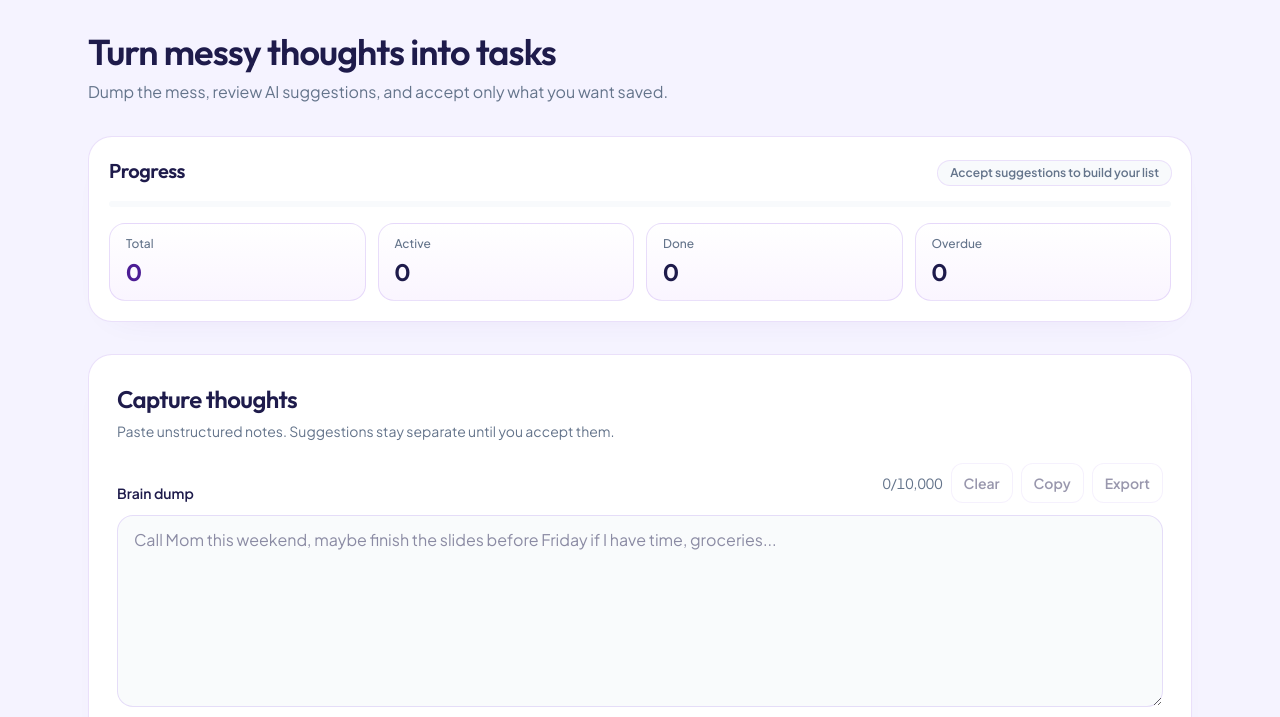
Test: BrainDumpWorkspace › shows loading and empty states and blocks duplicate submissions
Type "random musings" into the text box labelled "Brain dump" at {"x": 640, "y": 611}, box [117, 515, 1163, 707]
(page scrolled)
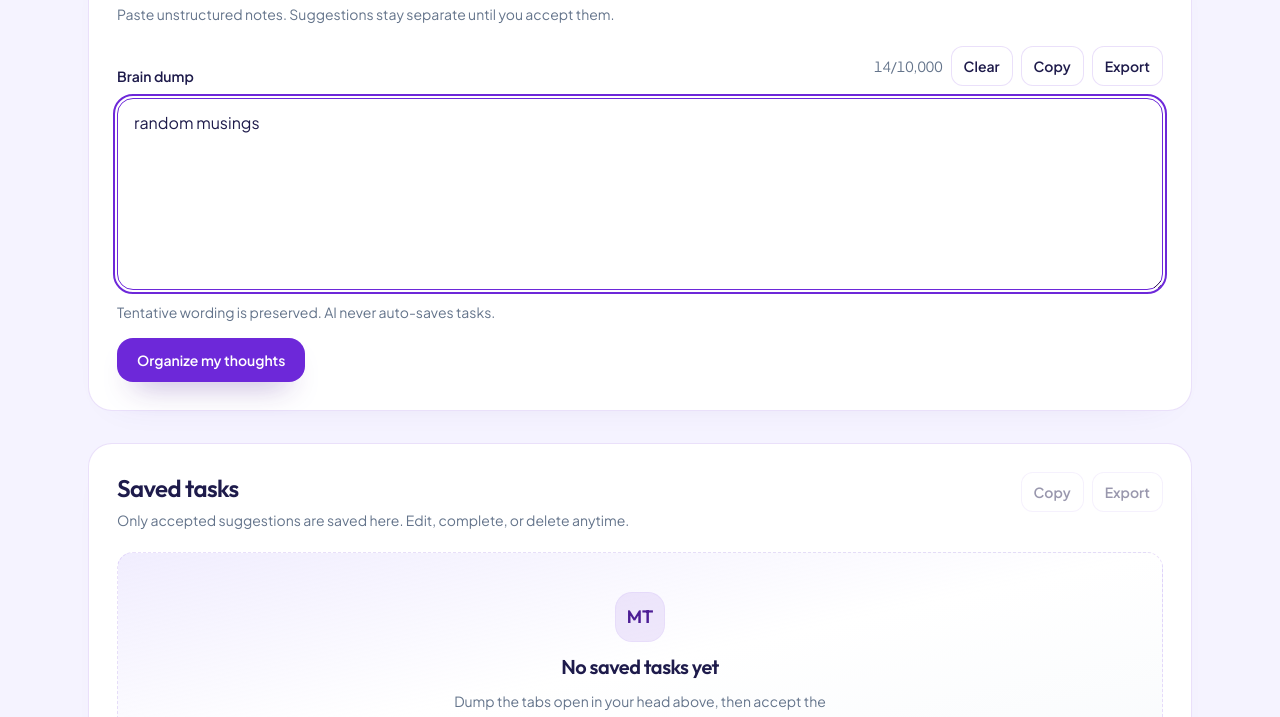
Click the button "Organize my thoughts" at {"x": 211, "y": 360}, box [117, 338, 306, 382]
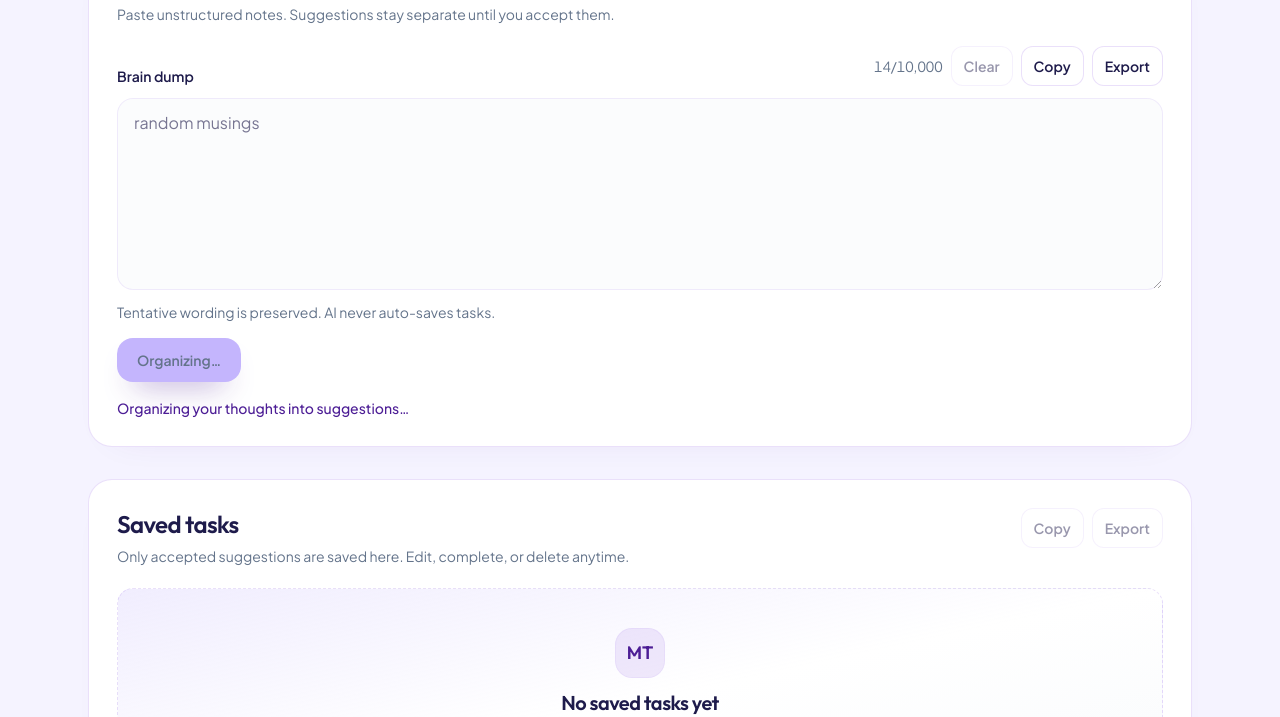
Now the text "Organizing your thoughts into suggestions…" is shown, box [117, 399, 409, 417]
Now the button "Organizing…" is disabled
Click the button "Organizing…" at {"x": 179, "y": 360}, box [117, 338, 241, 382]
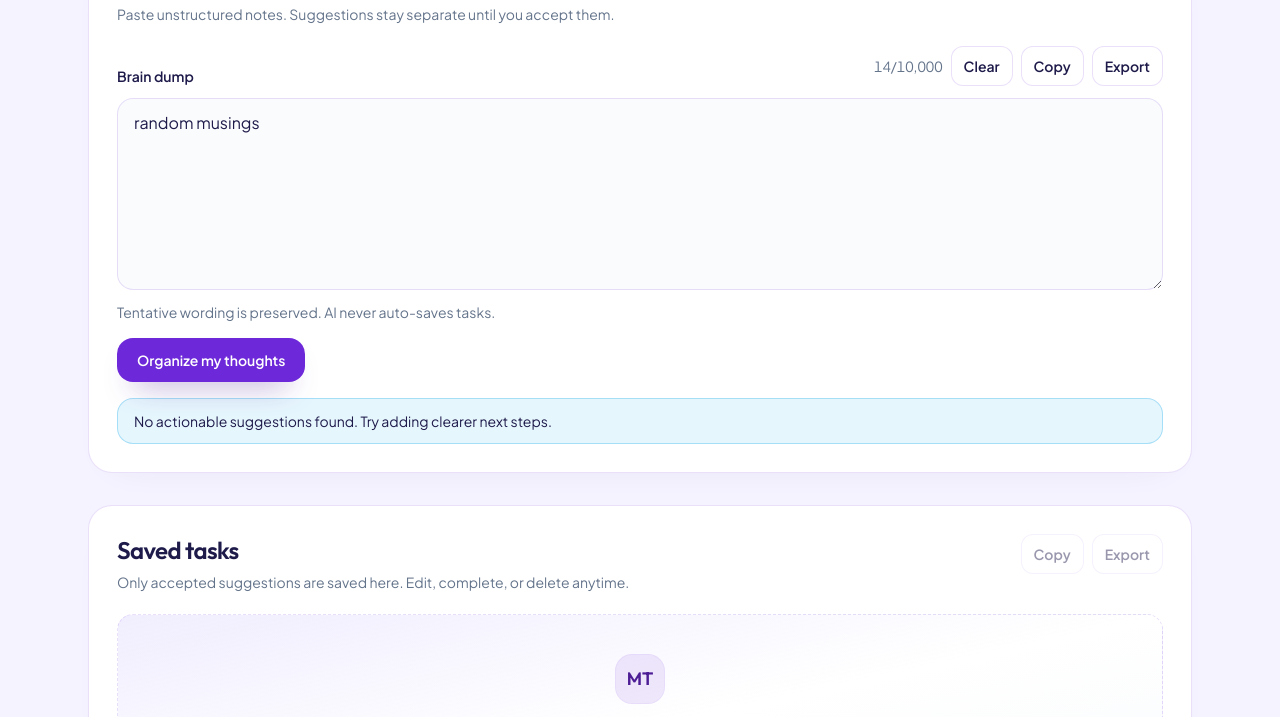
Now the text "No actionable suggestions found. Try adding clearer next steps." is shown, box [117, 398, 1163, 444]
